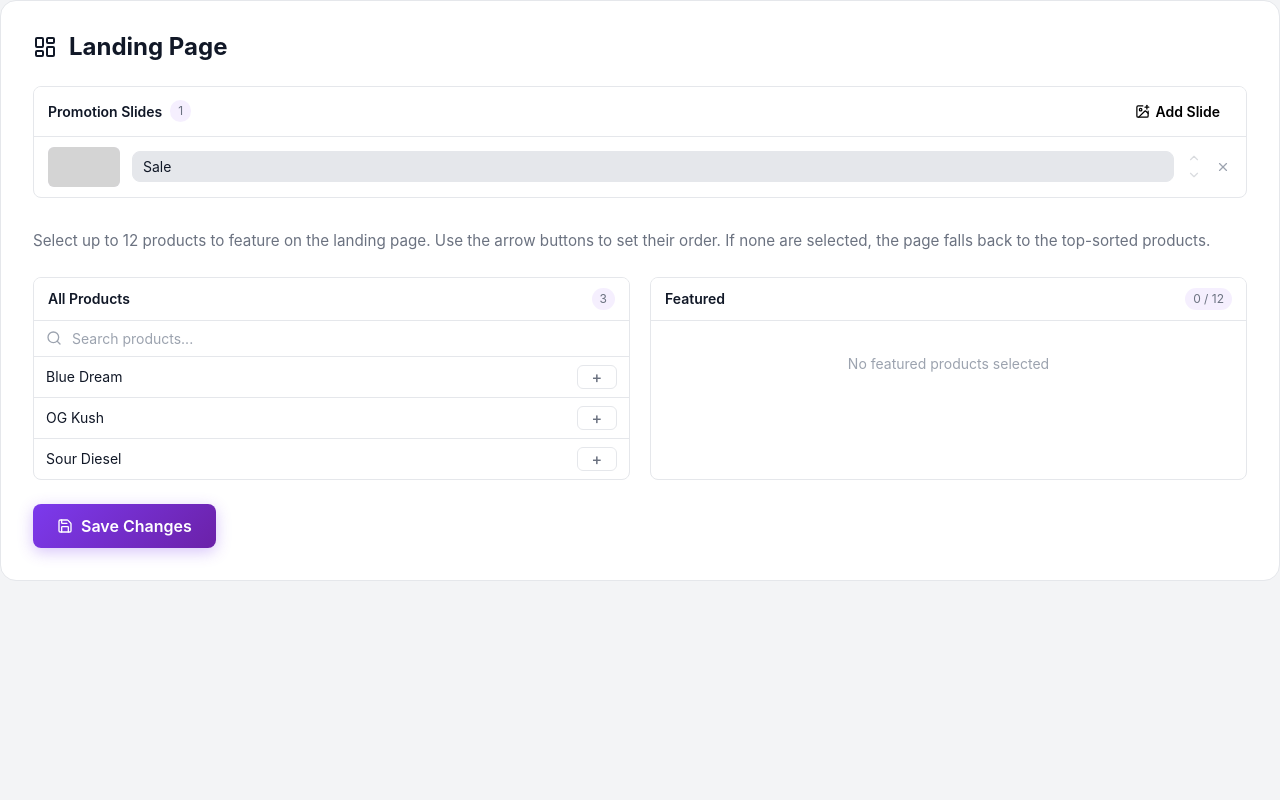
Test case: LandingPageSection › removes a promotion slide when its remove button is clicked
Step 1. Click the button titled "Remove slide" → (1223, 167), box top-left (1214, 158), bottom-right (1232, 176)
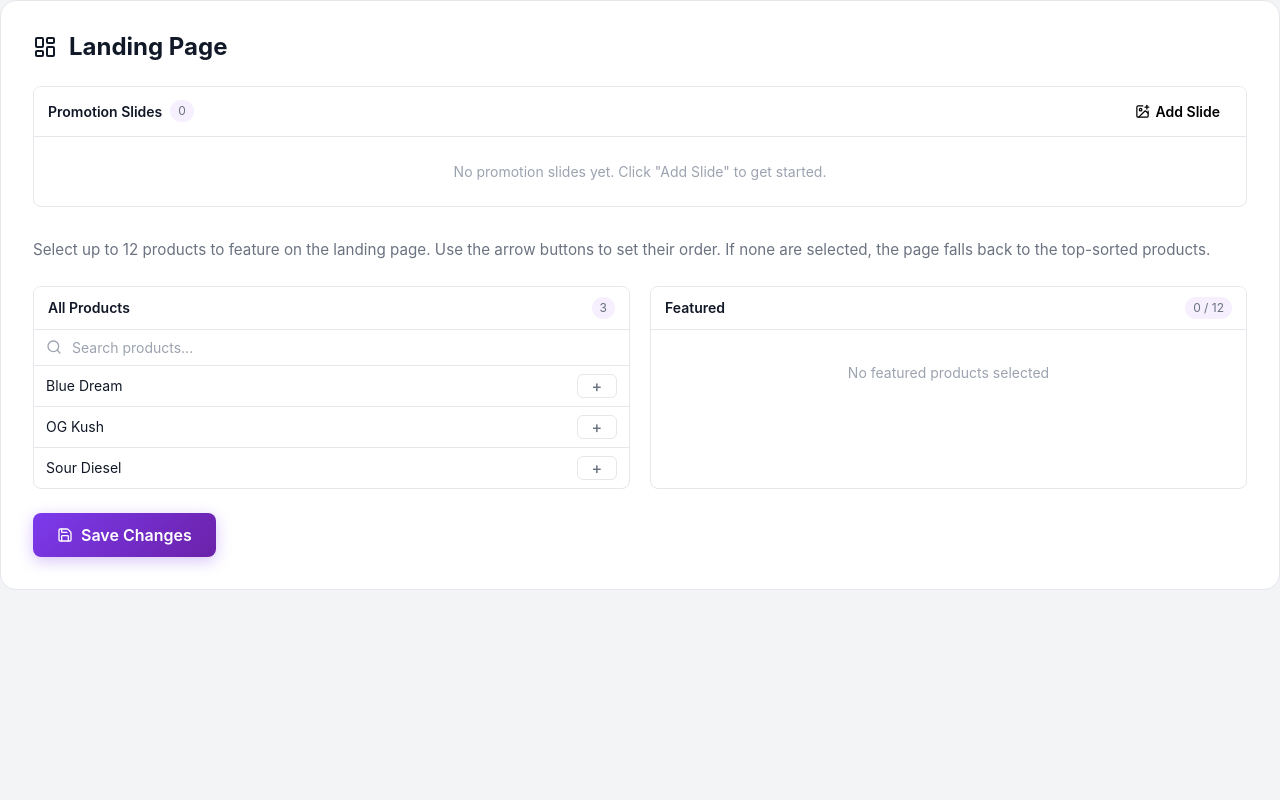
Now the text "No promotion slides yet. Click \"Add Slide\" to get started." is shown, box top-left (454, 163), bottom-right (826, 180)
